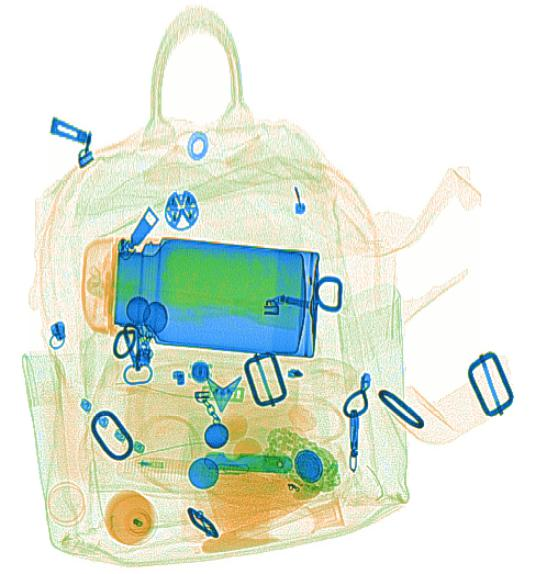knife: (203, 449, 294, 474)
plasticBottleWithaNozzle: (103, 488, 158, 547)
